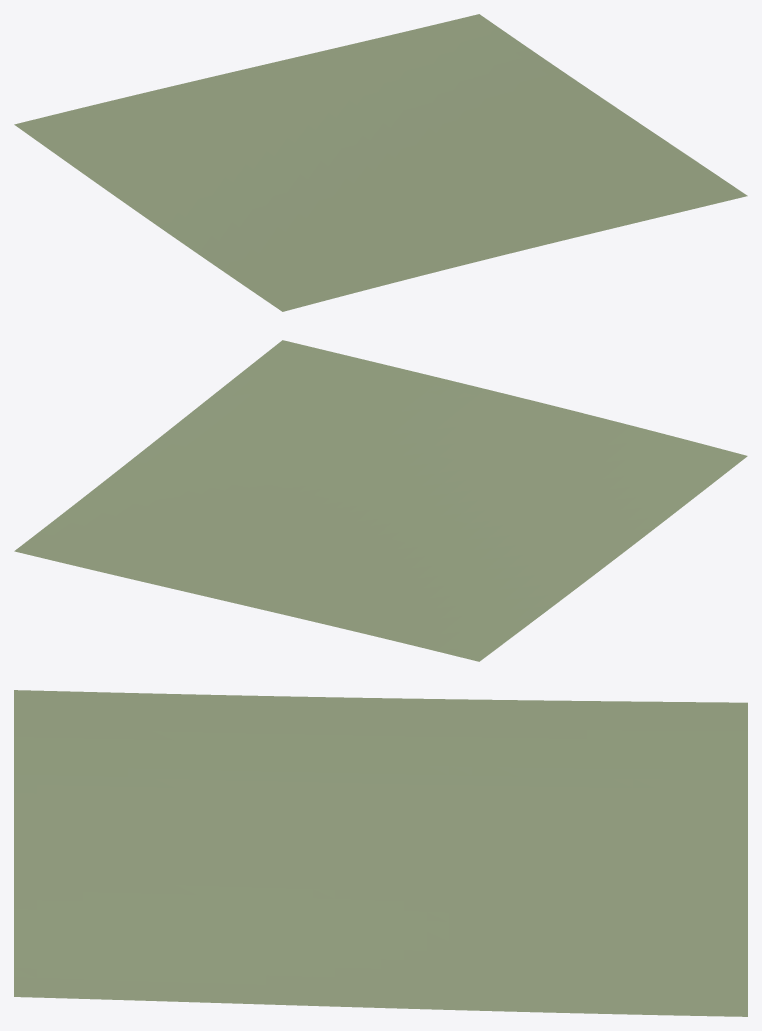
Rendered from expanse-7-12.glb.
The picture shows the model from 3 angles, top to bottom: view 1: azimuth 30°, elevation 25°; view 2: azimuth 150°, elevation 25°; view 3: azimuth 270°, elevation 25°; orthographic projection. The views are drawn at different scales.
Visible parts, largest first — view 1: expanse-7-12; view 2: expanse-7-12; view 3: expanse-7-12.
Part boxes in pixels (left/top/right/bottom): expanse-7-12: left=14, top=14, right=747, bottom=311; expanse-7-12: left=14, top=340, right=747, bottom=661; expanse-7-12: left=14, top=690, right=747, bottom=1016.
Bounding box in the file's own units: 256 × 7.98 × 256.
